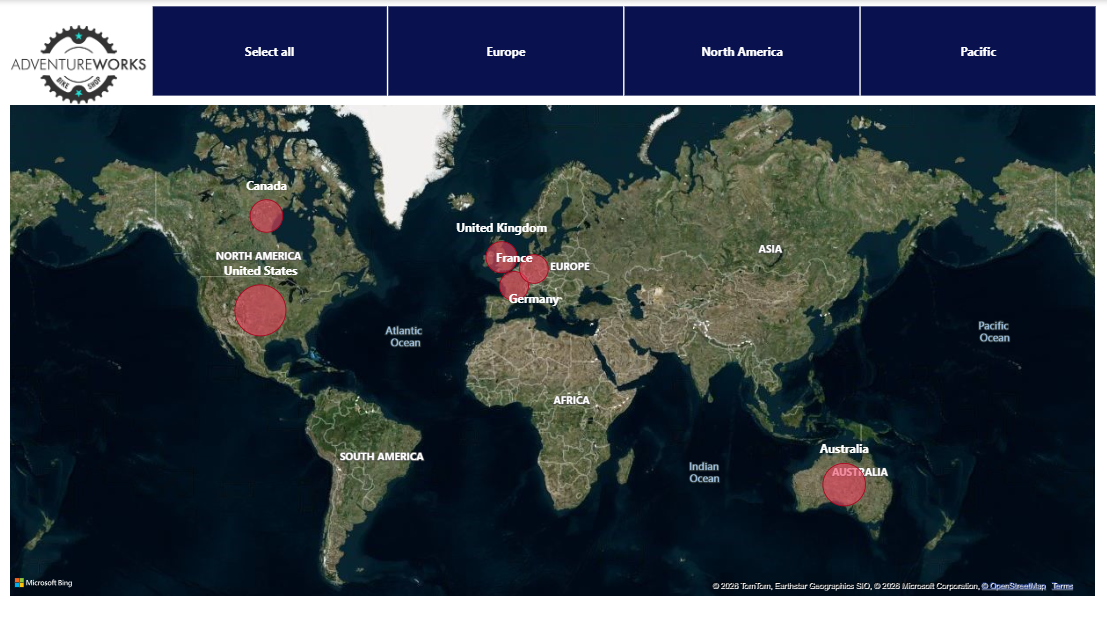

Layout of this report page (visuals, bound fields, positions):
{"tool":"powerbi","page":{"name":"MAP","canvas":[1280,720],"ordinal":1},"visuals":[{"type":"map","fields":{"Category":["AW Territory Lookup.Country"],"Size":["Sales.Total Orders"]},"box":[16,115.7,1244.1,605.1],"z":0},{"type":"slicer","fields":{"Values":["AW Territory Lookup.Continent"]},"box":[156.6,0,1123,115.7],"z":1000},{"type":"image","box":[0,0,198,147.6],"z":2000}]}

Visuals, with their boxes in screenshot pixels (x1, y1, x2, y2), scaled from the page's 1280x720 canvas onto the 1107x619 screenshot:
map - AW Territory Lookup.Country x Sales.Total Orders: box(14, 99, 1090, 618)
slicer - AW Territory Lookup.Continent: box(135, 0, 1106, 99)
image: box(0, 0, 171, 127)
